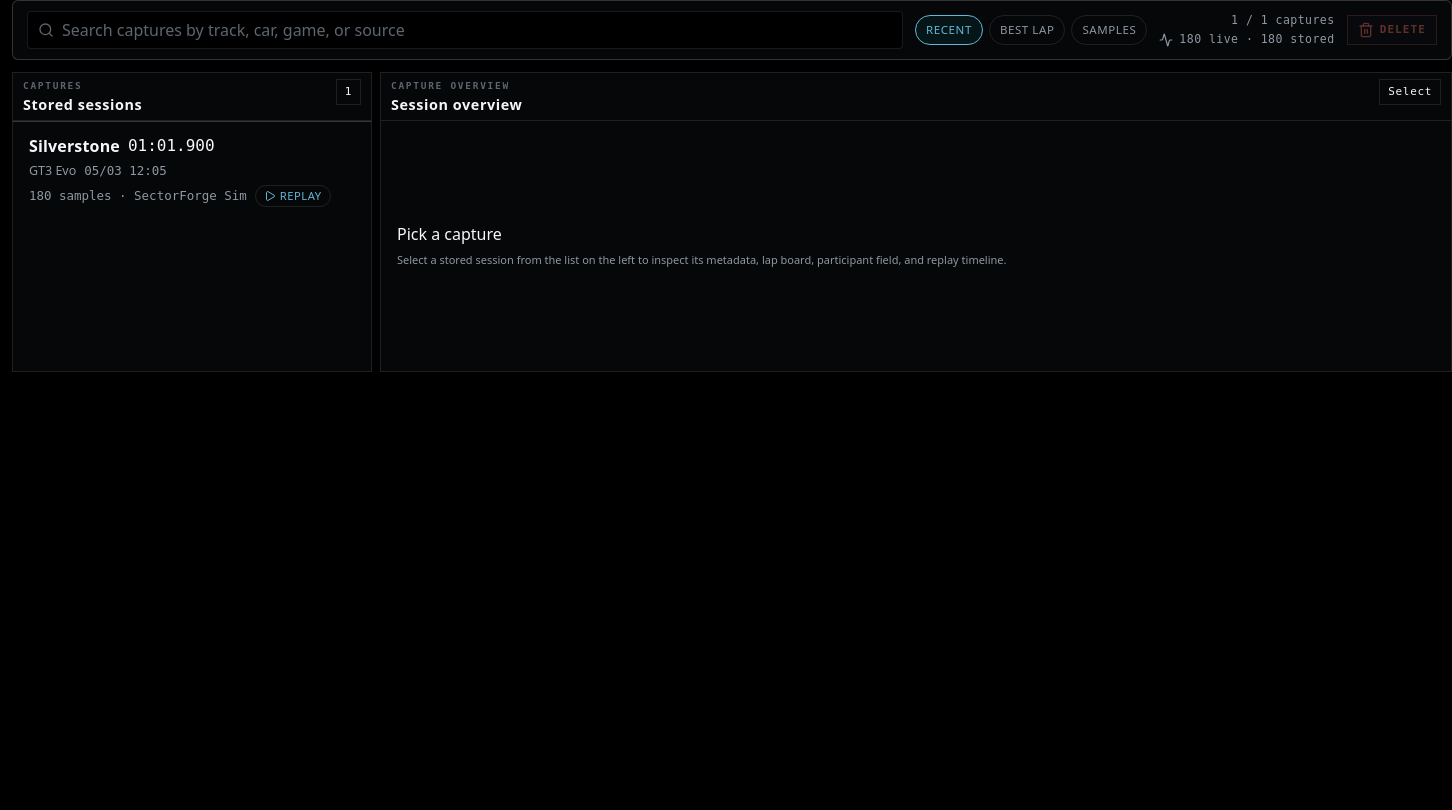
Test: TimingBoard › reports when a selected capture has already been removed
The image size is (1452, 810).
Click the button "Silverstone" below "Capture overview" at (74, 146), box [13,122,371,219]
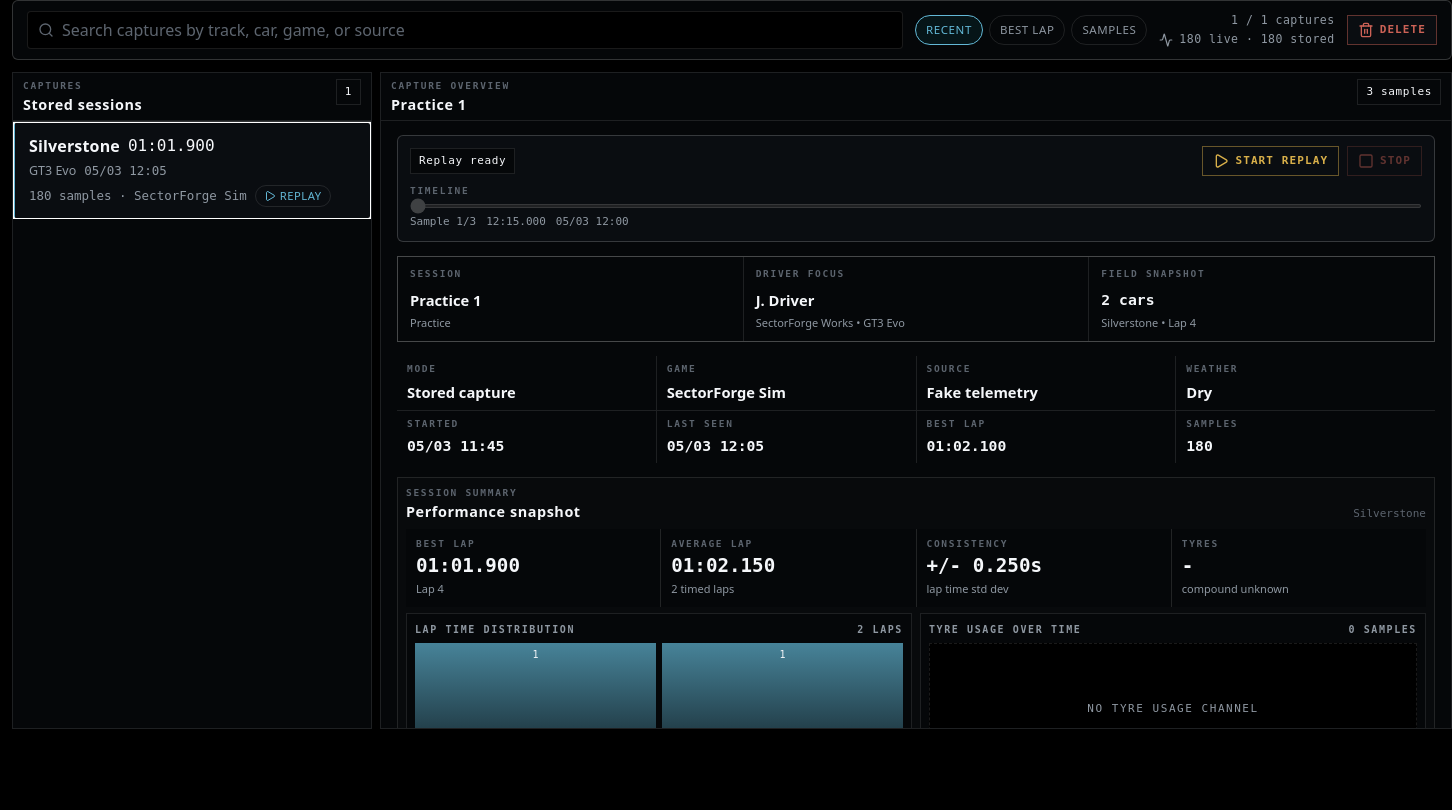
Click the button with aria-label "Delete selected capture" at (1392, 30), box [1347,15,1437,45]
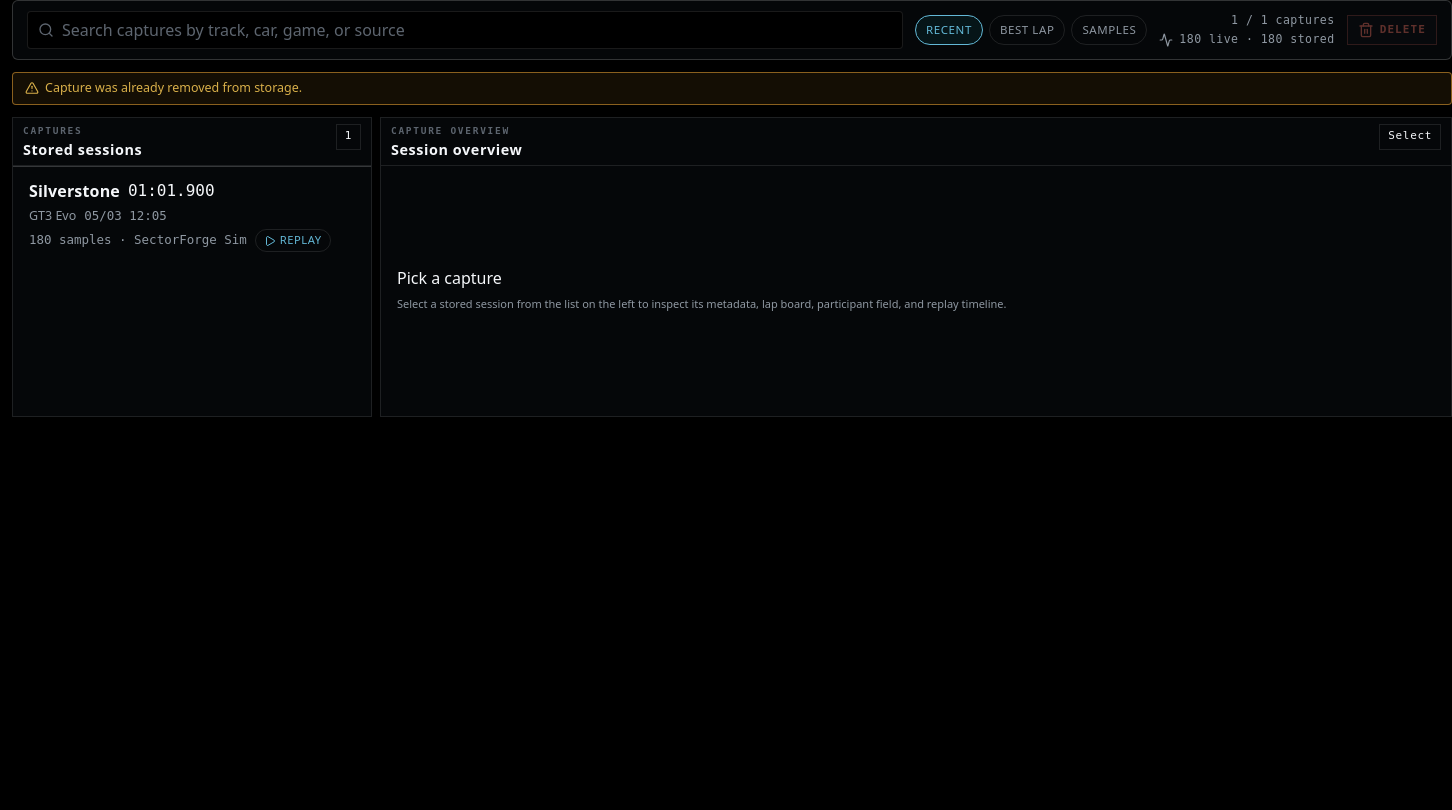
Now the 1st text "Capture was already removed from storage." is shown, box [45,79,302,96]
